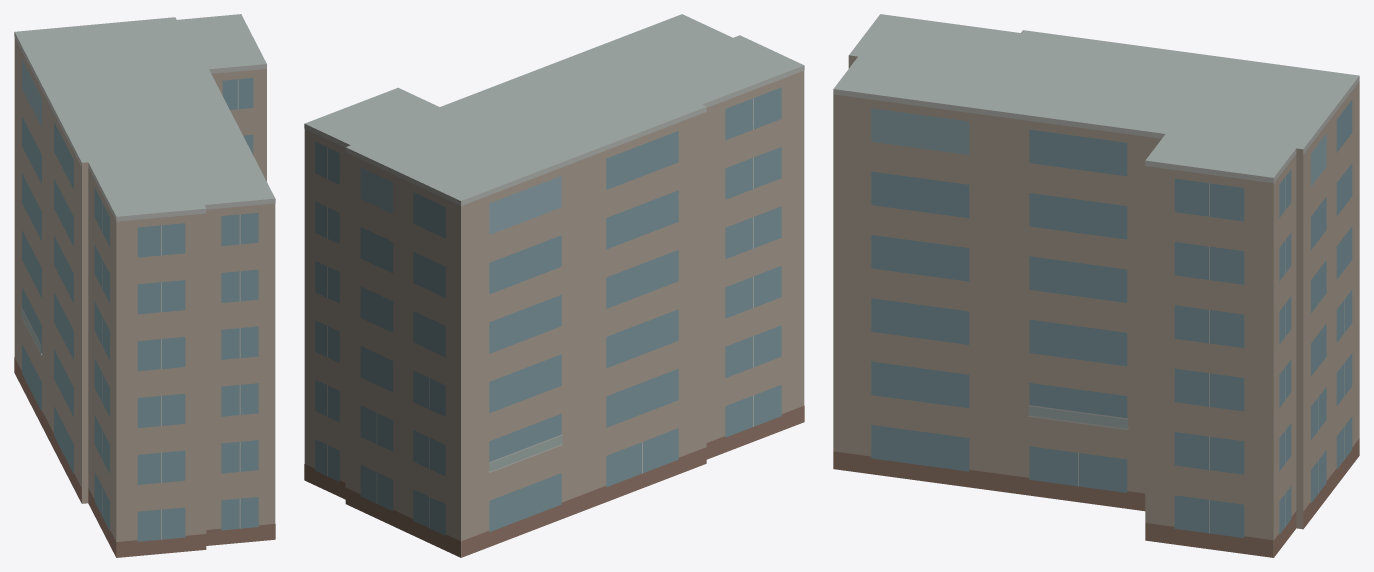
Rendered from survey-upis-32995567.glb.
3 renders of one model, left to right at view 1: azimuth 30°, elevation 25°; view 2: azimuth 150°, elevation 25°; view 3: azimuth 270°, elevation 25°, orthographic. The views are drawn at different scales.
Visible parts, largest first — view 1: survey-upis-32995567.tmp; view 2: survey-upis-32995567.tmp; view 3: survey-upis-32995567.tmp.
Part boxes in pixels (x1,y1,x2,y2): survey-upis-32995567.tmp: [14, 14, 275, 557]; survey-upis-32995567.tmp: [304, 14, 804, 557]; survey-upis-32995567.tmp: [833, 14, 1359, 557].
Size of the model in its own units: 16.06 by 17.35 by 21.79.
